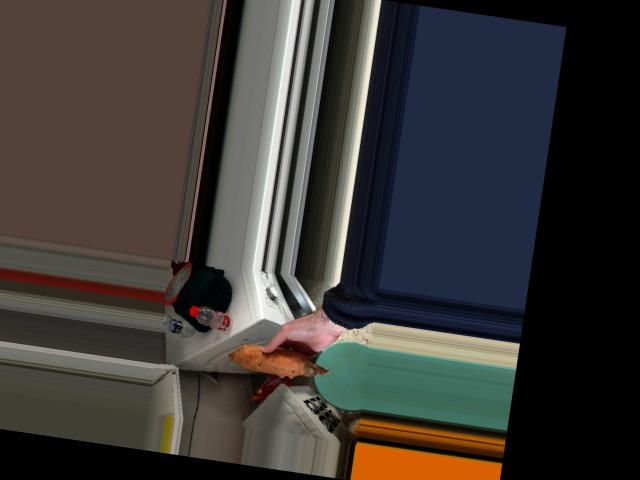sweet_potato: (230, 343, 319, 378)
